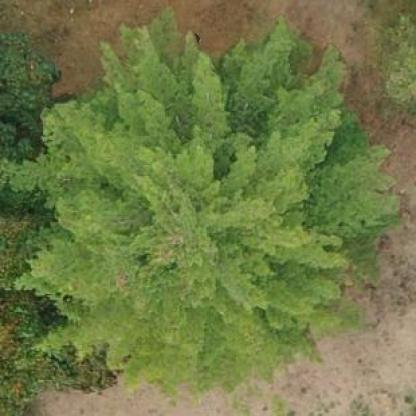Coniferous Tree: (36, 25, 404, 394)
